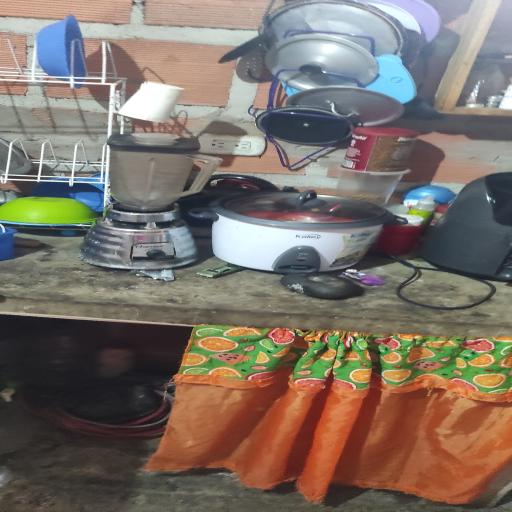Carrito: (197, 263, 245, 278)
